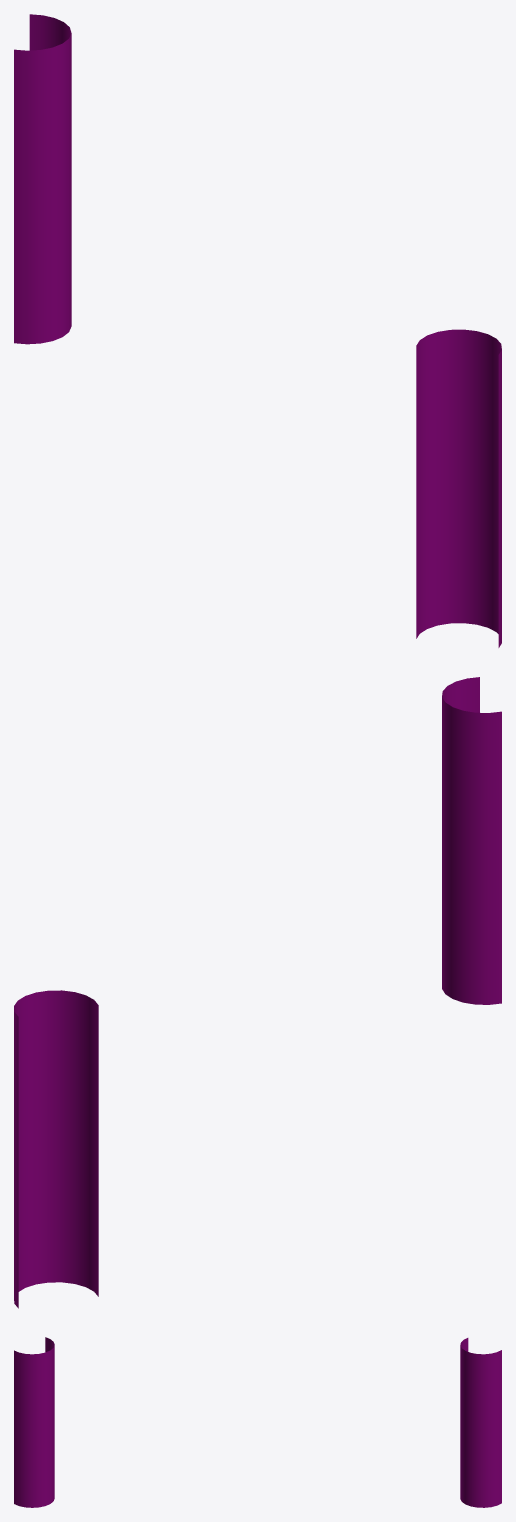
File: pokeTubos.obj
3 views of the same model, one above another, from view 1: azimuth 30°, elevation 25°; view 2: azimuth 150°, elevation 25°; view 3: azimuth 270°, elevation 25° (orthographic). The views are drawn at different scales.
Parts seen in each view (by area): view 1: pCylinder8, pCylinder9; view 2: pCylinder9, pCylinder8; view 3: pCylinder9, pCylinder8.
Boxes of the visible parts, <box> form: pCylinder8: <box>416,329,501,647</box>; pCylinder9: <box>14,14,71,344</box>; pCylinder9: <box>14,990,98,1308</box>; pCylinder8: <box>442,677,501,1004</box>; pCylinder9: <box>460,1338,501,1507</box>; pCylinder8: <box>14,1337,54,1507</box>.
Size of the model in its own units: 1.6 by 6.64 by 19.11.
1 material, 1 textured.
